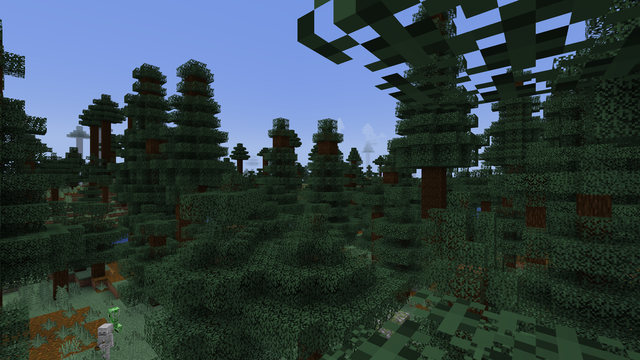creepers: (107, 305, 119, 334)
squelettes: (97, 321, 112, 358)
